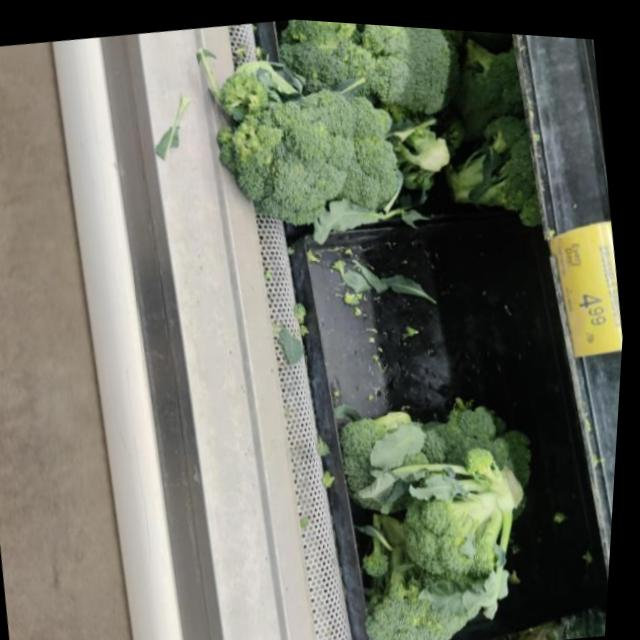Broccoli: (193, 36, 404, 254), (383, 428, 549, 593), (346, 504, 504, 640), (331, 373, 468, 515), (342, 18, 487, 147)
